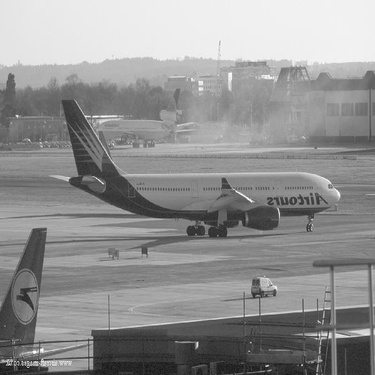airplane: (23, 87, 359, 256), (74, 91, 204, 158), (1, 248, 57, 372)
